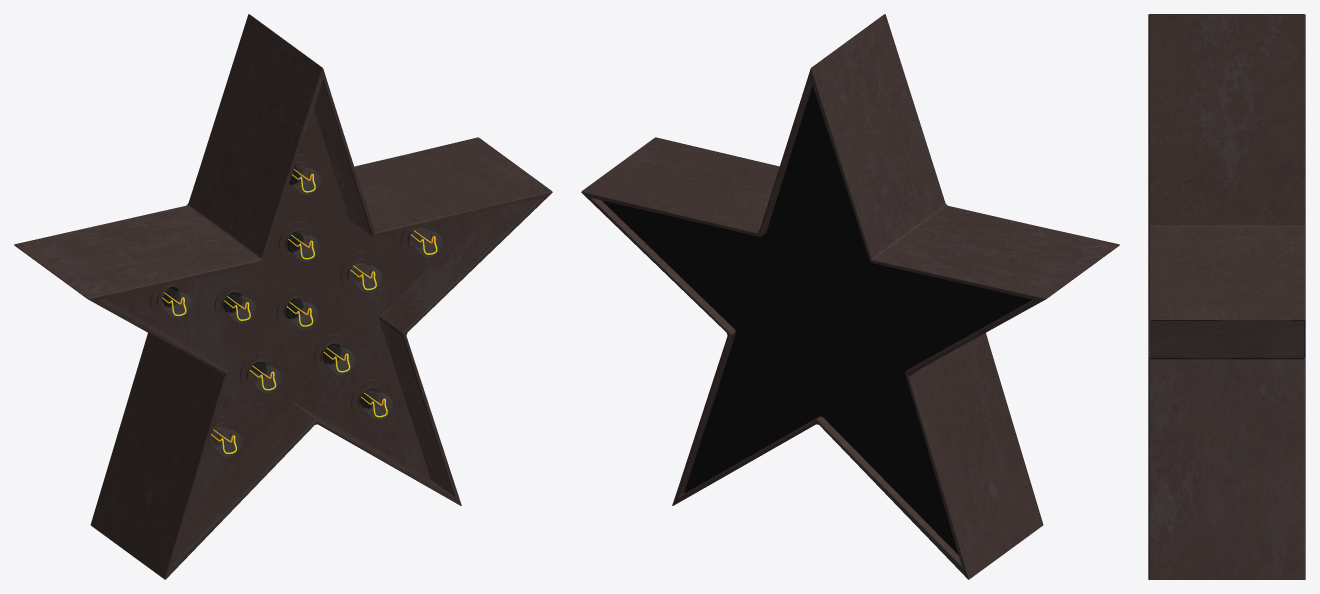
File: starlamp.glb
3 views of the same model, side by side, from view 1: azimuth 30°, elevation 25°; view 2: azimuth 150°, elevation 25°; view 3: azimuth 270°, elevation 25° (orthographic). The views are drawn at different scales.
Visible parts, largest first — view 1: Broadway_Star_Floor_Lamp_METAL_0, Broadway_Star_Floor_Lamp_GLASS_0, Broadway_Star_Floor_Lamp_PLASTIC_0, Broadway_Star_Floor_Lamp_LIGHT_0; view 2: Broadway_Star_Floor_Lamp_METAL_0, Broadway_Star_Floor_Lamp_PLASTIC_0; view 3: Broadway_Star_Floor_Lamp_METAL_0.
Boxes of the visible parts, x1=… form: Broadway_Star_Floor_Lamp_METAL_0: x1=14, y1=14, x2=552, y2=579; Broadway_Star_Floor_Lamp_GLASS_0: x1=160, y1=165, x2=442, y2=456; Broadway_Star_Floor_Lamp_PLASTIC_0: x1=162, y1=165, x2=371, y2=408; Broadway_Star_Floor_Lamp_LIGHT_0: x1=162, y1=169, x2=437, y2=453; Broadway_Star_Floor_Lamp_METAL_0: x1=581, y1=14, x2=1119, y2=579; Broadway_Star_Floor_Lamp_PLASTIC_0: x1=601, y1=85, x2=1031, y2=554; Broadway_Star_Floor_Lamp_METAL_0: x1=1148, y1=14, x2=1305, y2=579.
Size of the model in its own units: 46.48 by 45.25 by 13.
4 materials, 1 textured.
